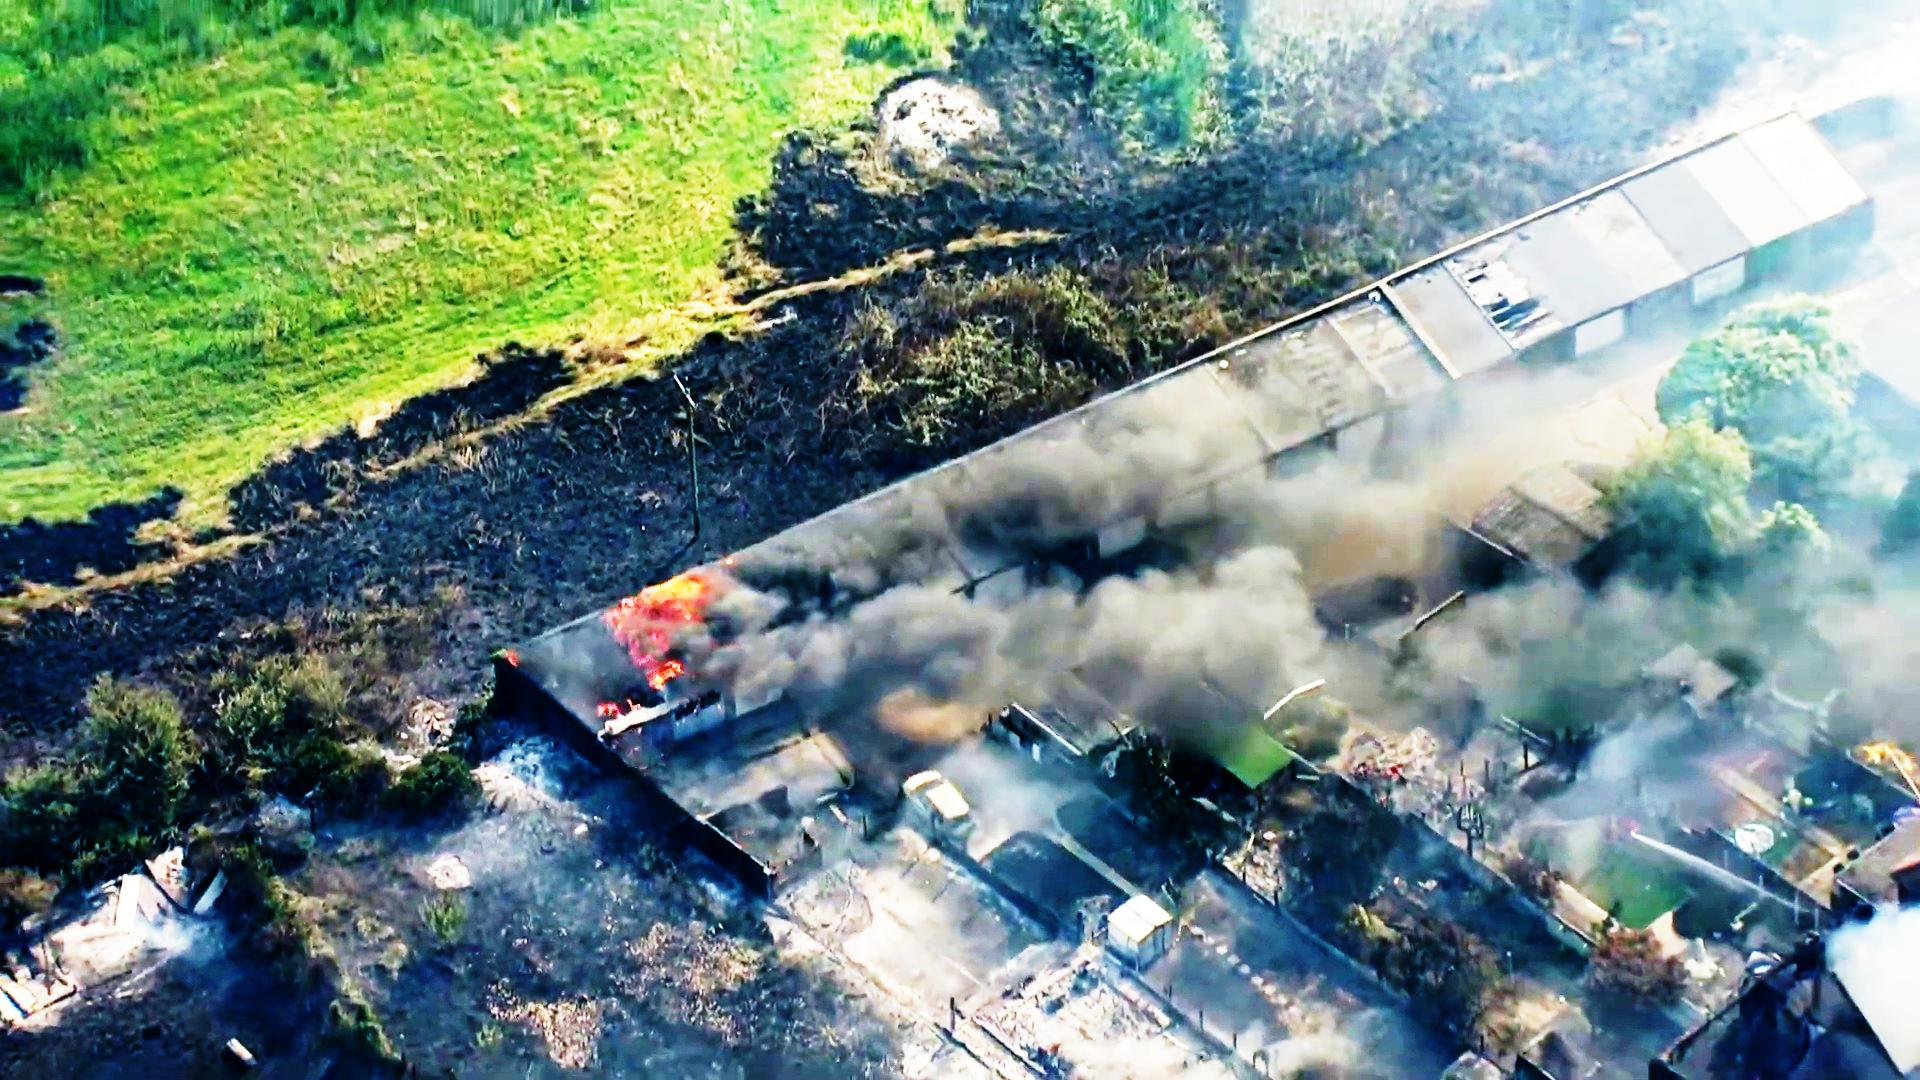fire: (733, 563, 1275, 749), (579, 583, 725, 695)
